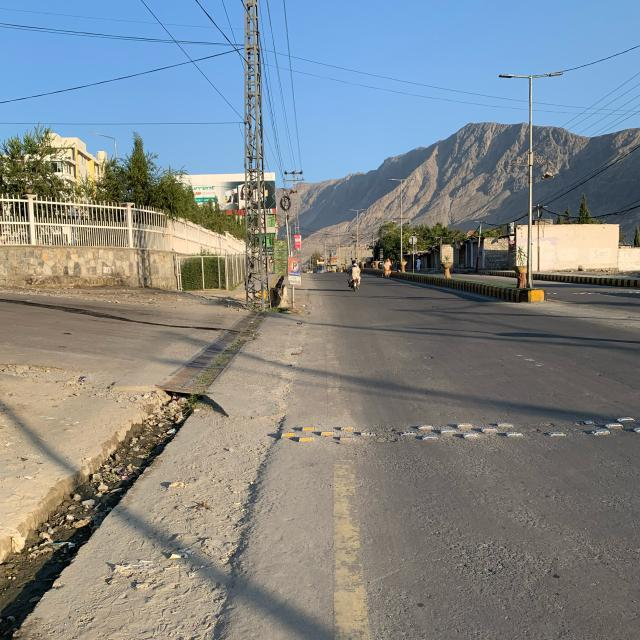Left-Turn: (129, 298, 516, 444)
straight: (314, 259, 632, 526)
